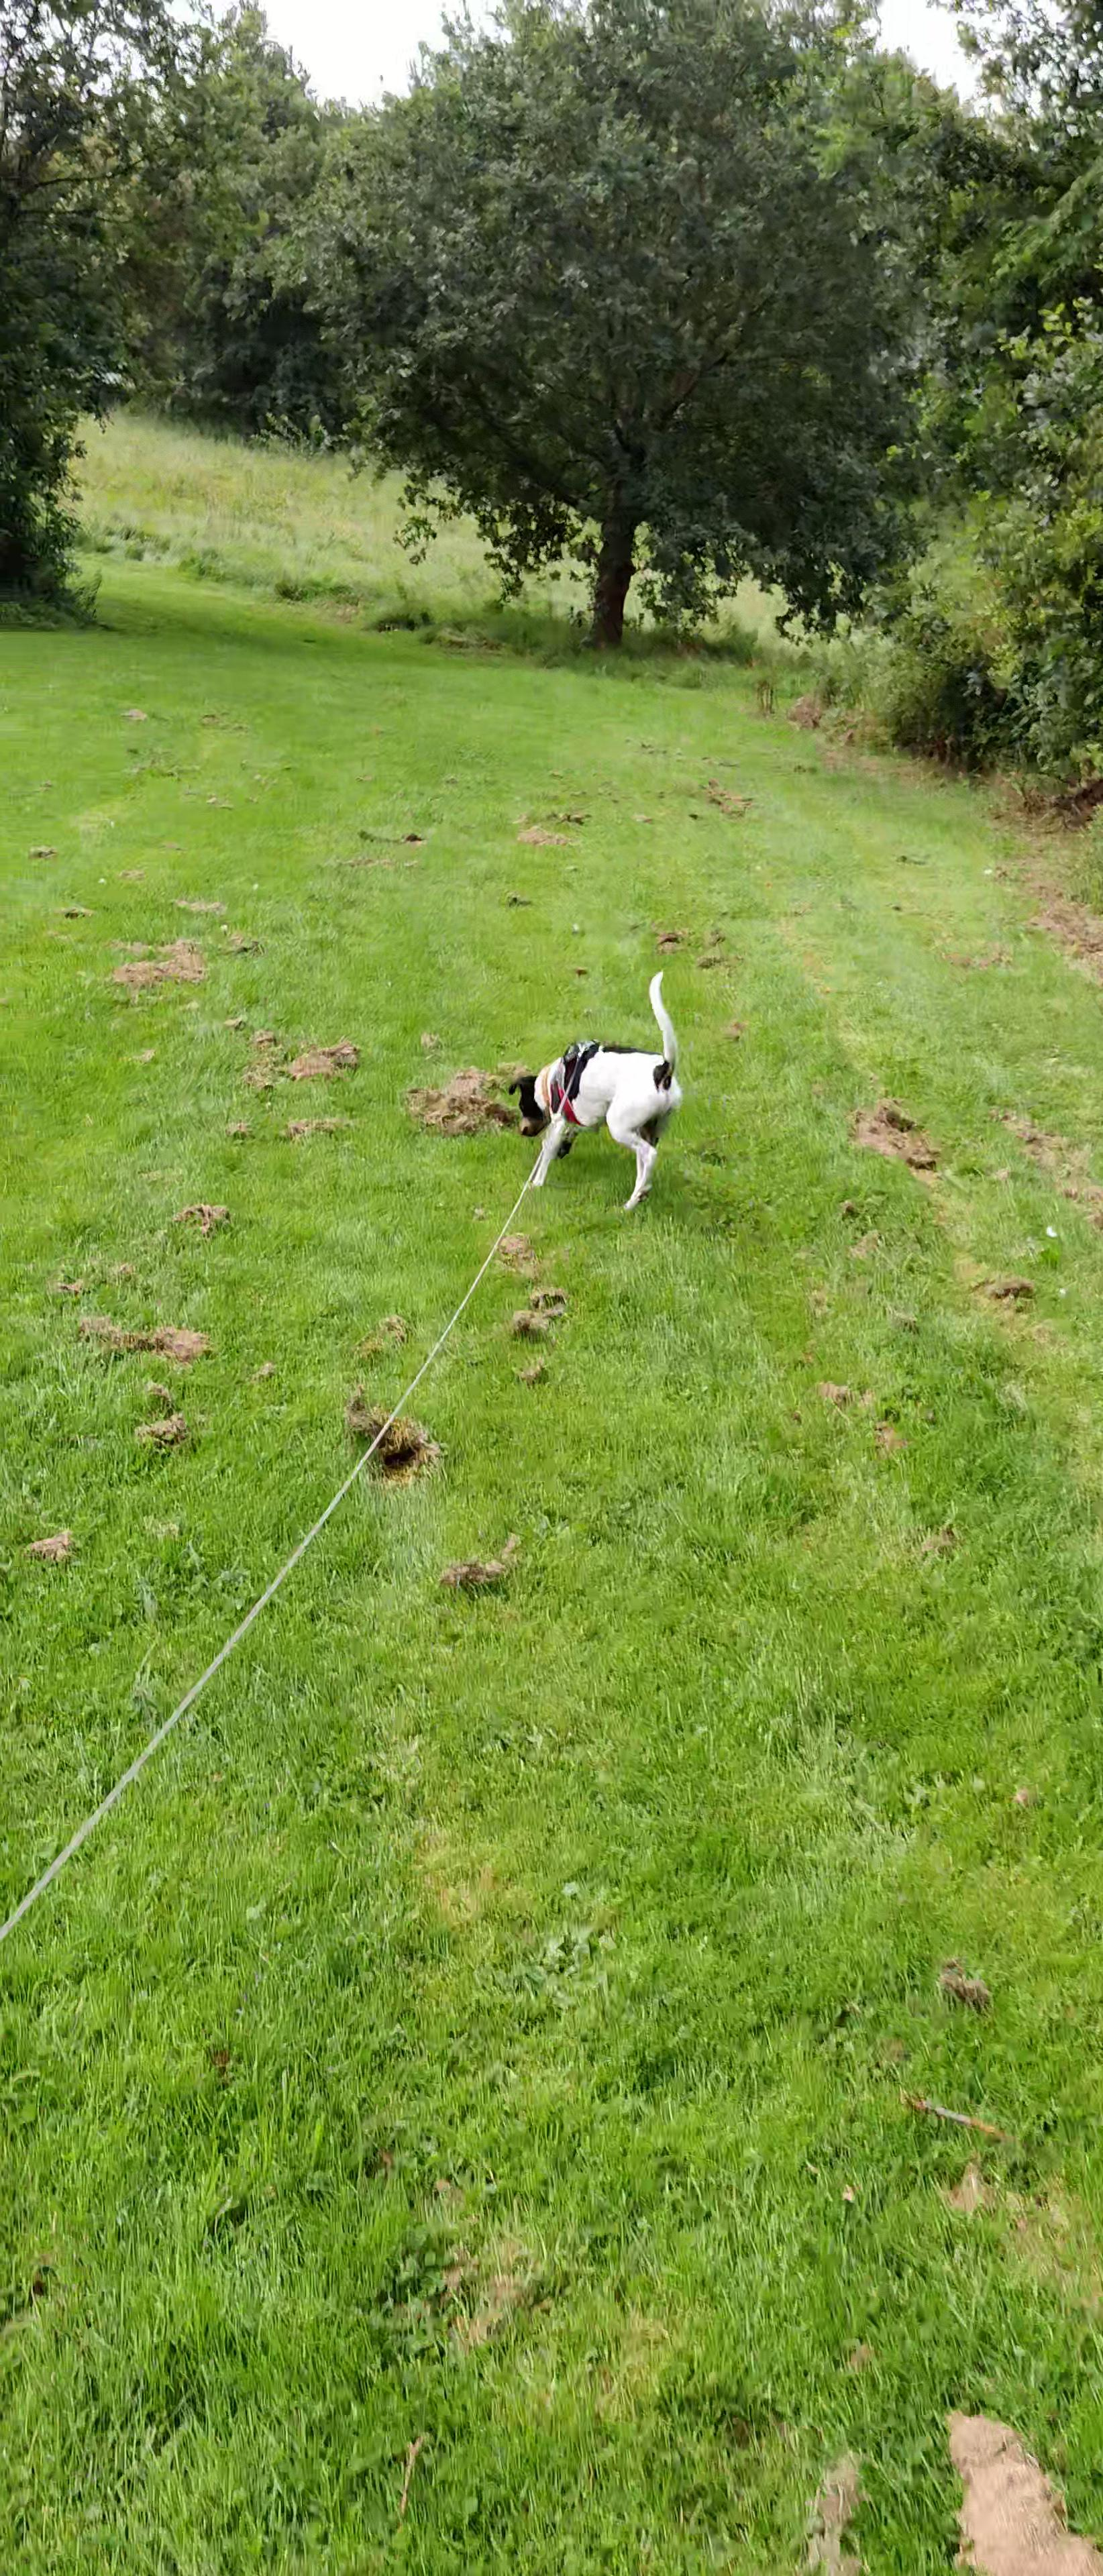Dog: (508, 963, 684, 1214)
